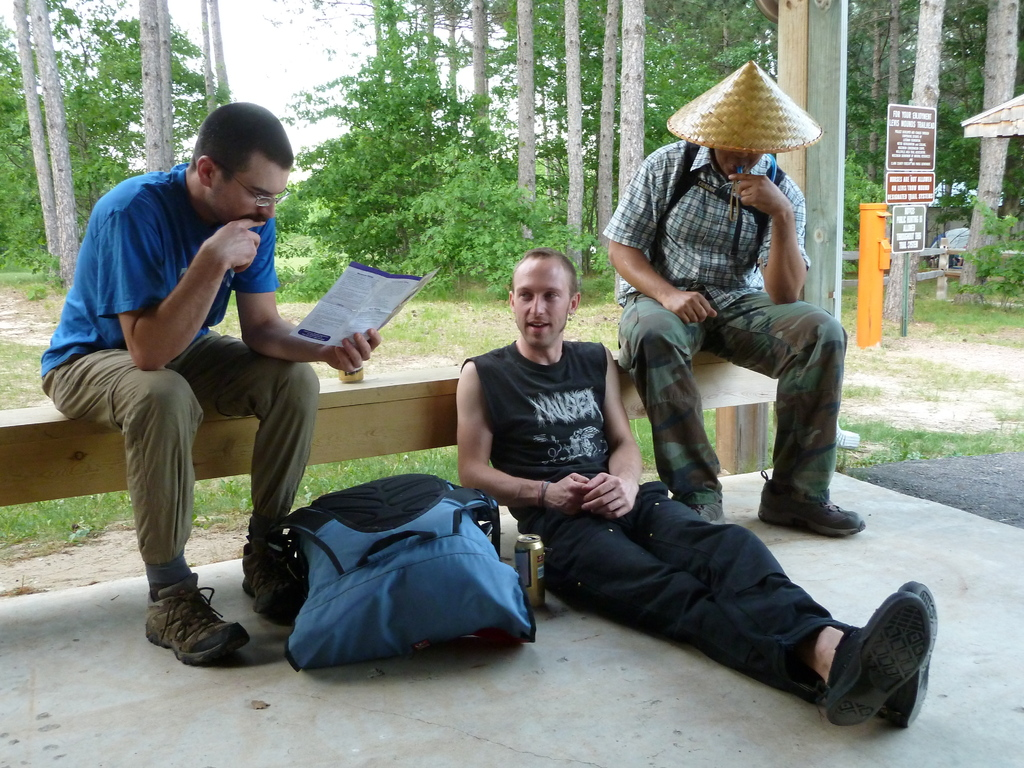Footwear: (820, 590, 932, 723), (139, 575, 231, 671), (752, 463, 871, 537), (884, 578, 933, 733), (241, 537, 307, 623), (697, 500, 726, 524)
